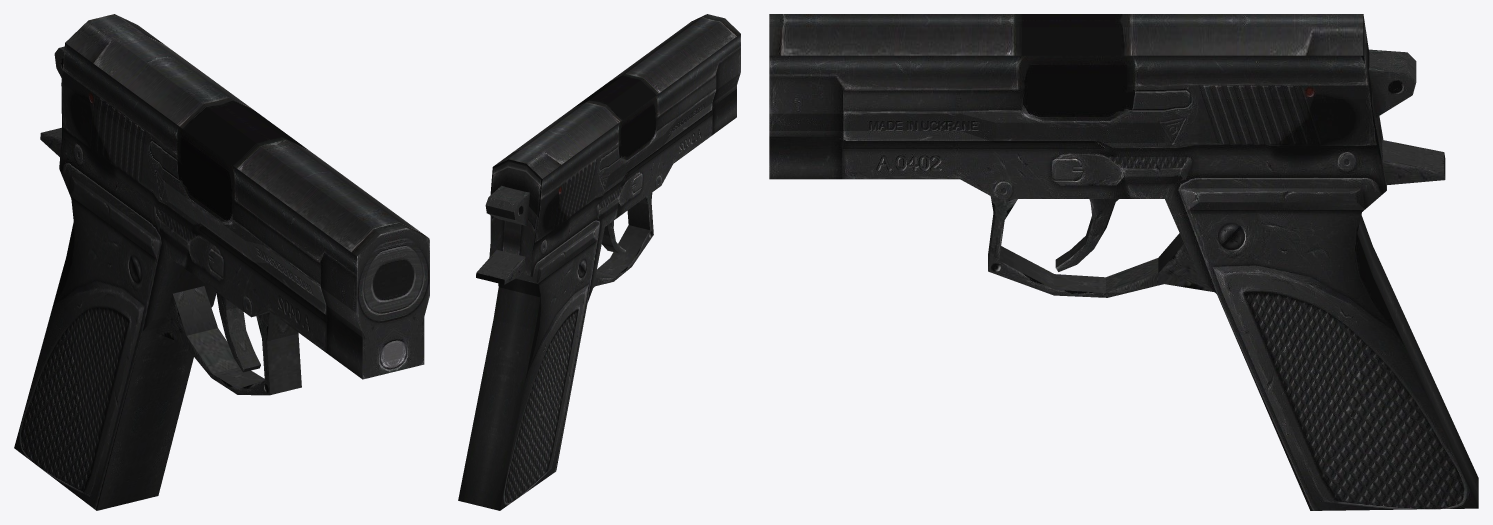
File: pistol.fbx
3 renders of one model, left to right at view 1: azimuth 30°, elevation 25°; view 2: azimuth 150°, elevation 25°; view 3: azimuth 270°, elevation 25°, orthographic. The views are drawn at different scales.
Visible parts, largest first — view 1: Cube; view 2: Cube; view 3: Cube.
Boxes of the visible parts, bbox=[...] form: Cube: bbox=[14, 14, 429, 510]; Cube: bbox=[458, 14, 740, 510]; Cube: bbox=[769, 14, 1478, 510].
Size of the model in its own units: 60.18 by 369 by 499.
